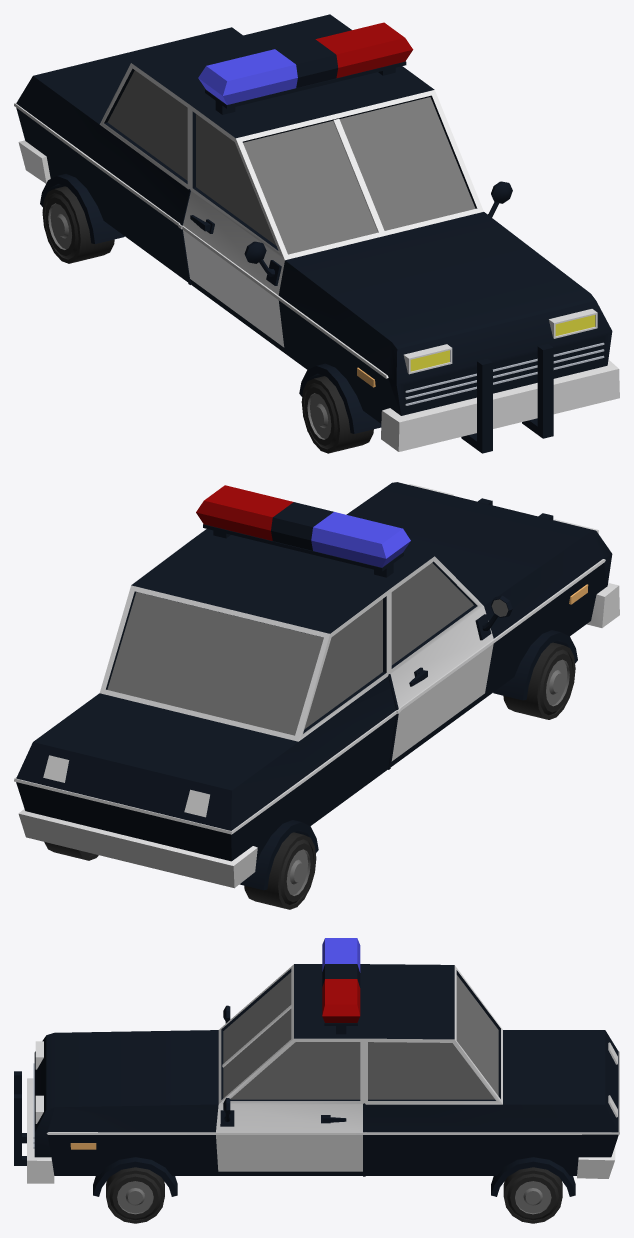
File: police-car.fbx
The picture shows the model from 3 angles, top to bottom: view 1: azimuth 30°, elevation 25°; view 2: azimuth 150°, elevation 25°; view 3: azimuth 270°, elevation 25°; orthographic projection. The views are drawn at different scales.
Parts seen in each view (by area): view 1: police-car, police-car-front-wheels, police-car-rear-wheels; view 2: police-car, police-car-rear-wheels, police-car-front-wheels; view 3: police-car, police-car-rear-wheels, police-car-front-wheels.
Boxes of the visible parts, x1=… form: police-car: x1=14, y1=14, x2=619, y2=453; police-car-front-wheels: x1=301, y1=376, x2=373, y2=453; police-car-rear-wheels: x1=42, y1=186, x2=114, y2=263; police-car: x1=14, y1=482, x2=619, y2=890; police-car-rear-wheels: x1=44, y1=832, x2=316, y2=909; police-car-front-wheels: x1=503, y1=642, x2=575, y2=719; police-car: x1=14, y1=938, x2=619, y2=1196; police-car-rear-wheels: x1=503, y1=1167, x2=562, y2=1223; police-car-front-wheels: x1=106, y1=1167, x2=164, y2=1223.
Size of the model in its own units: 1.71 by 1.67 by 4.39.
